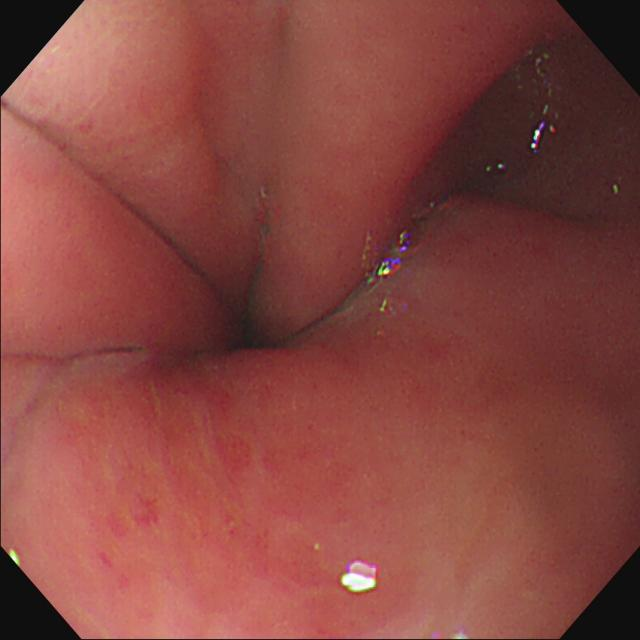E: (228, 301, 276, 355)
U: (367, 231, 412, 290), (341, 560, 379, 594), (532, 123, 546, 154)
